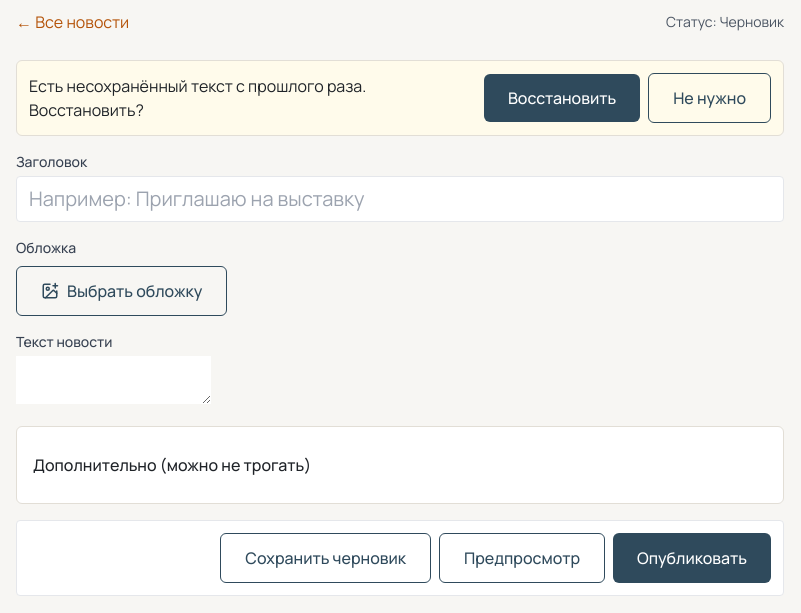
Scenario: PostEditor › offers to restore an unsaved local draft
Step 1. Click the button "Восстановить" → [562, 98], box [484,74,640,122]
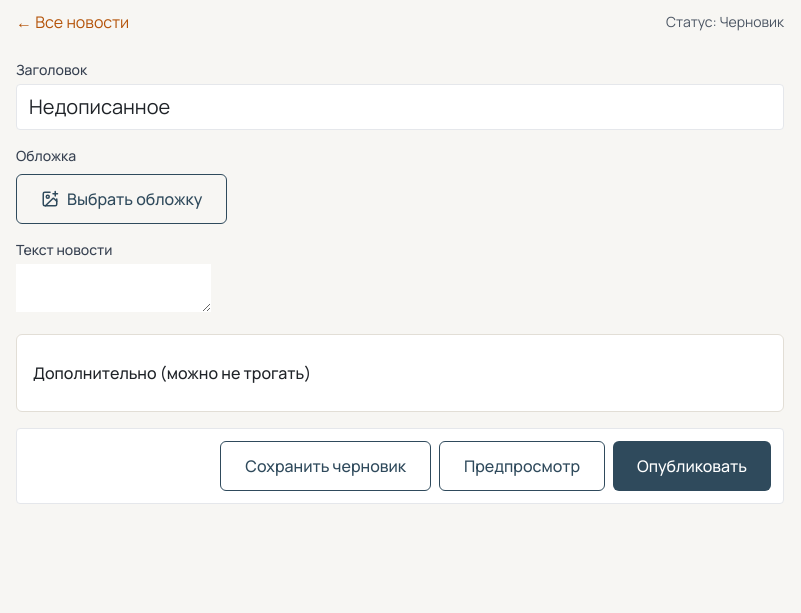
Result: the field labelled "Заголовок" holds "Недописанное" at [16,84,784,130]
